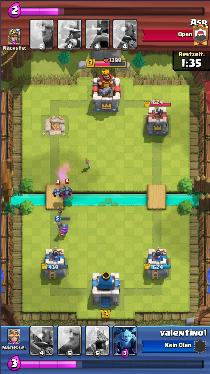EGolem: (56, 221, 68, 238)
OBeserker: (53, 188, 63, 197), (62, 185, 72, 194)
